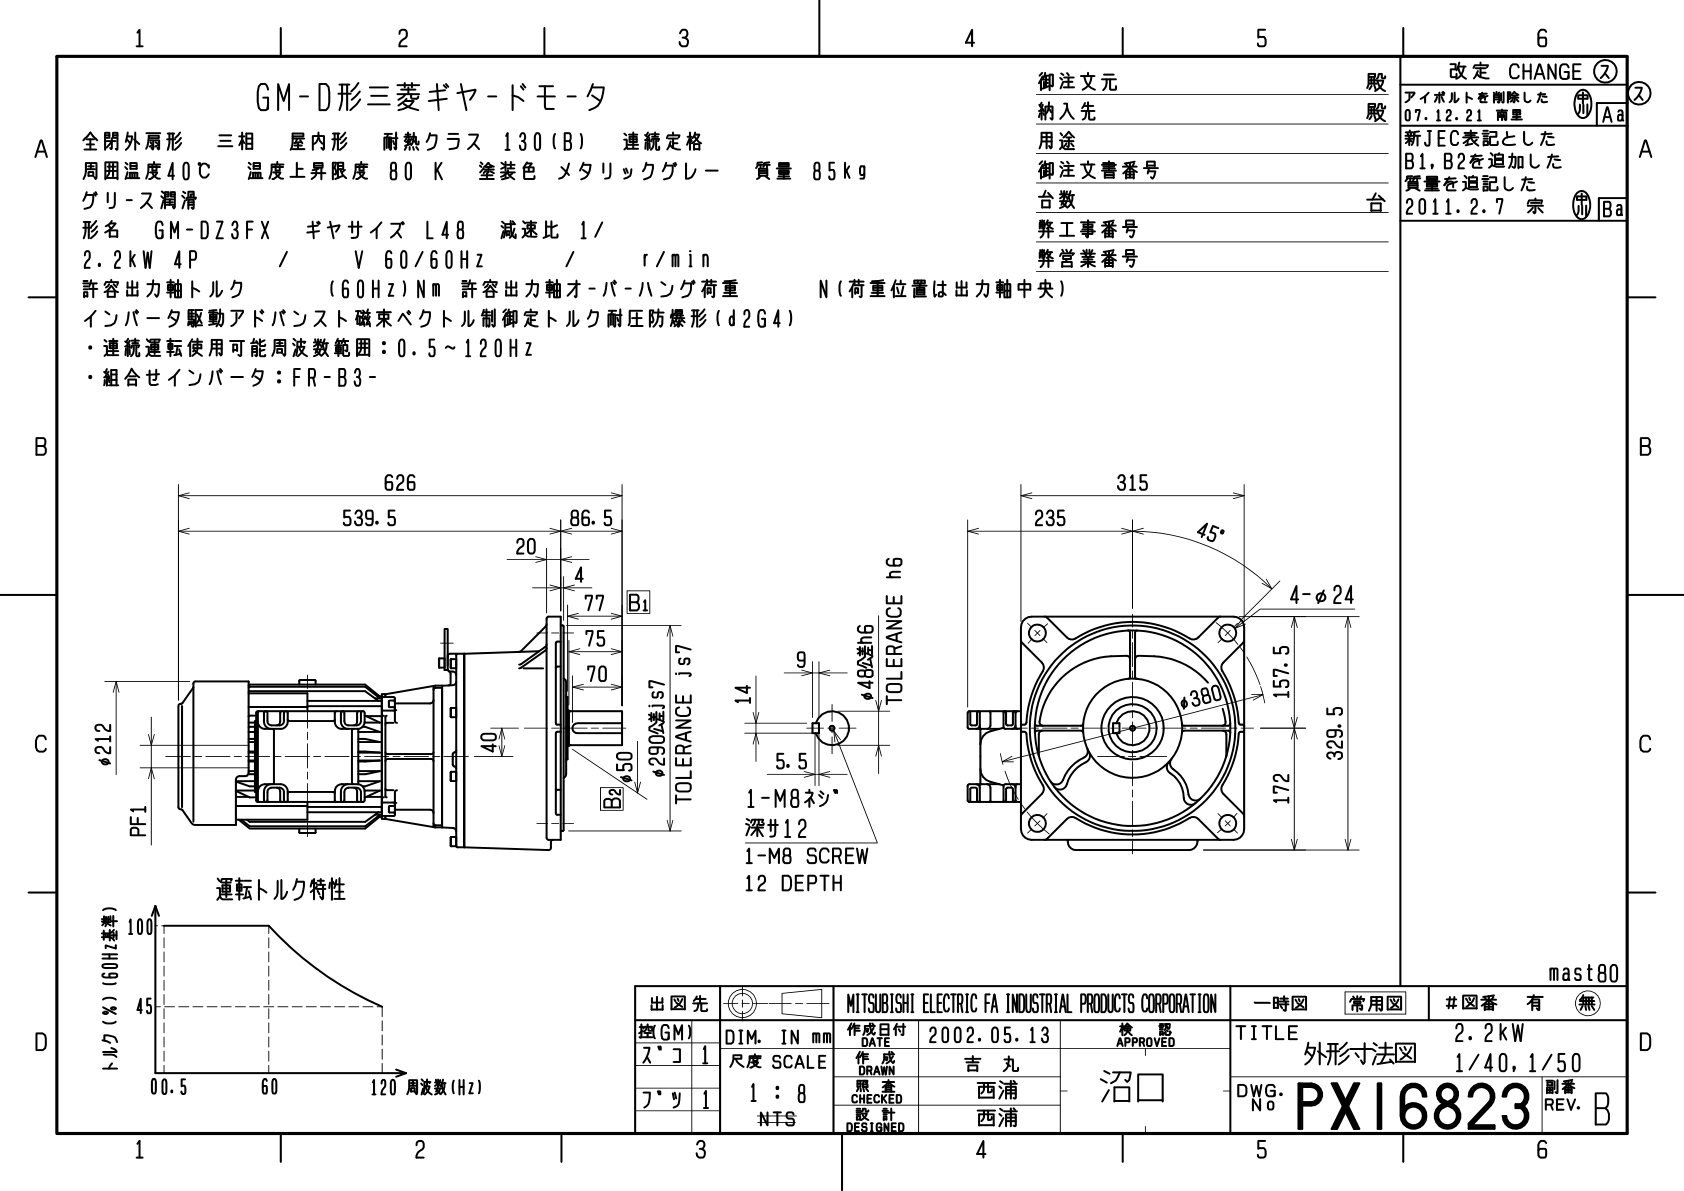GM_D_制御屋内_三相_フランジ: (71, 429, 1381, 956)
